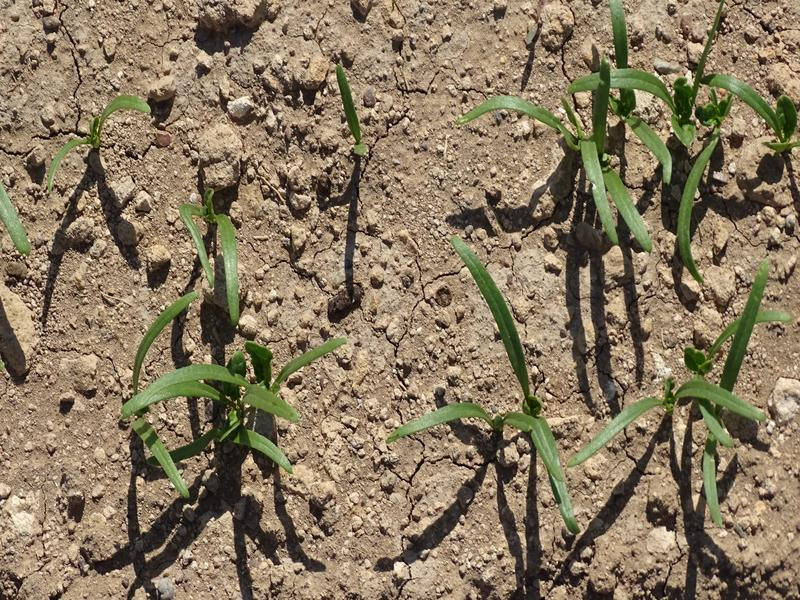Espinaca: (469, 5, 791, 247), (130, 206, 340, 493), (584, 262, 786, 526), (411, 240, 579, 535), (40, 92, 149, 184), (328, 67, 376, 165), (1, 192, 35, 256)
